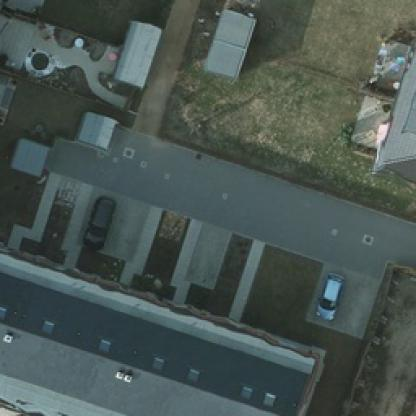car: (312, 270, 344, 324), (84, 196, 109, 248)
